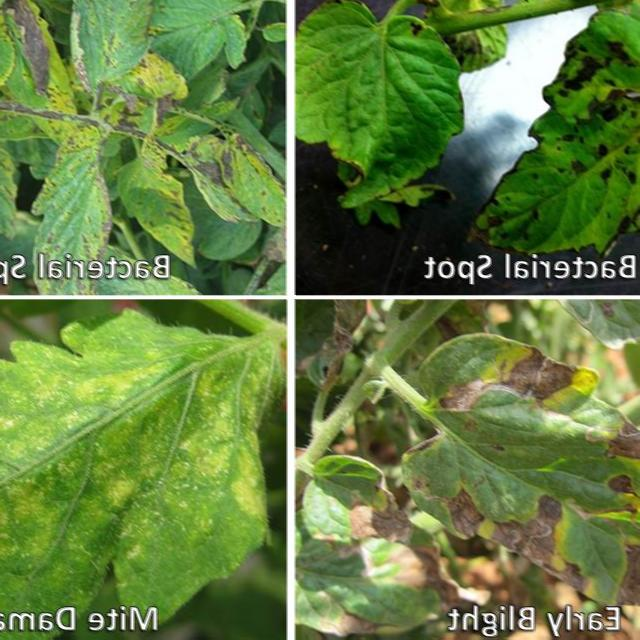Tomato leaf bacterial spot: (385, 328, 640, 606), (464, 0, 640, 277), (295, 0, 474, 251), (38, 112, 122, 293), (116, 120, 199, 287), (63, 0, 179, 109), (126, 0, 270, 83), (180, 132, 275, 245), (0, 2, 26, 109)
